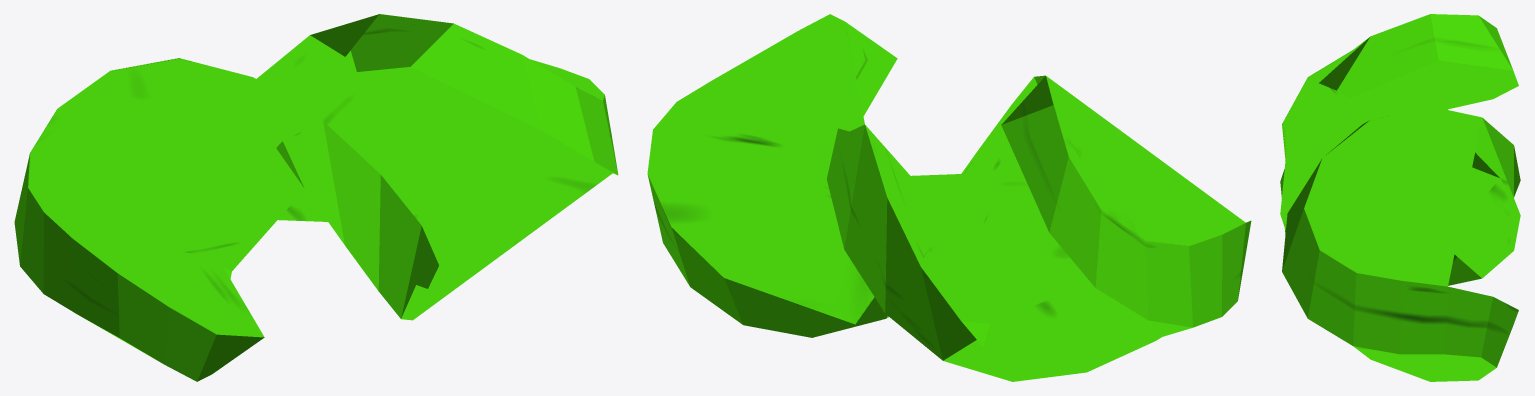
File: woman_scream_wave.glb
3 renders of one model, left to right at view 1: azimuth 30°, elevation 25°; view 2: azimuth 150°, elevation 25°; view 3: azimuth 270°, elevation 25°, orthographic. The views are drawn at different scales.
Parts seen in each view (by area): view 1: green sparkle_woman; view 2: green sparkle_woman; view 3: green sparkle_woman.
Part boxes in pixels (x1,y1,x2,y2): green sparkle_woman: [14, 14, 618, 381]; green sparkle_woman: [647, 14, 1251, 381]; green sparkle_woman: [1280, 14, 1520, 381].
Size of the model in its own units: 15.53 by 7.94 by 6.6.
1 material, 1 textured.
